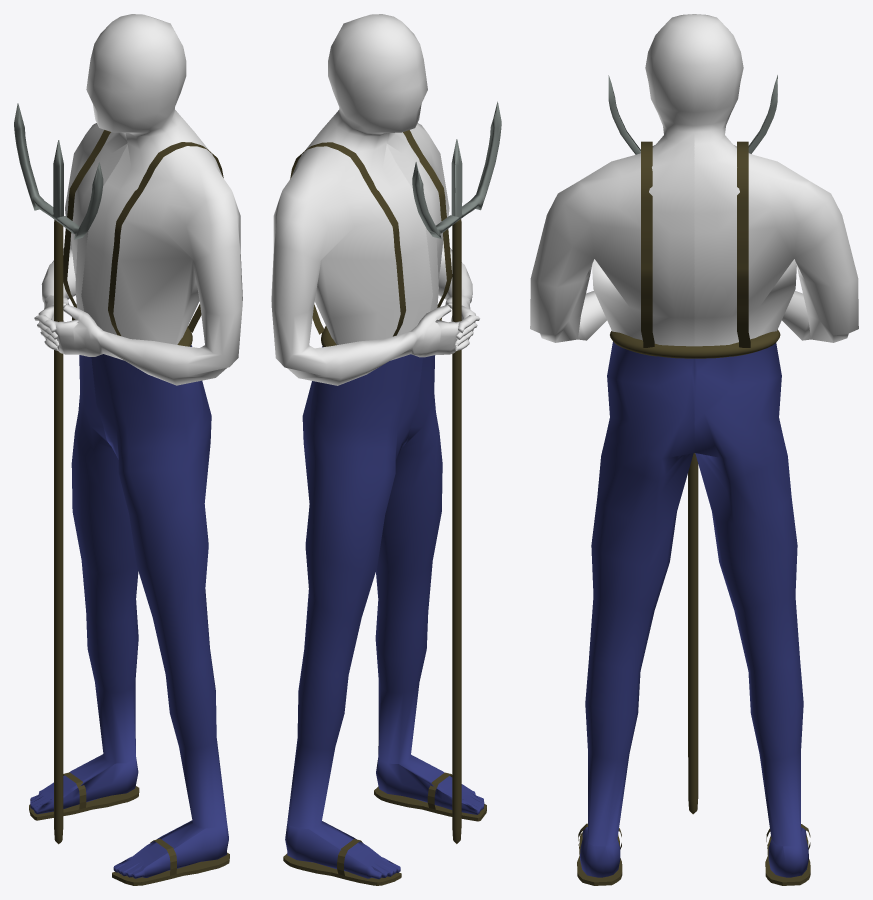
Rendered from Peasant.fbx.
3 views of the same model, side by side, from view 1: azimuth 30°, elevation 25°; view 2: azimuth 150°, elevation 25°; view 3: azimuth 270°, elevation 25° (orthographic). The views are drawn at different scales.
Parts seen in each view (by area): view 1: CB-Peasant, Pitchfork2, Pitchfork1, Plane, Sandle1, Sandle2, Plane.001; view 2: CB-Peasant, Pitchfork2, Pitchfork1, Plane.001, Sandle2, Sandle1, Plane; view 3: CB-Peasant, Pitchfork2, Plane.001, Plane, PeasantBelt, Pitchfork1, Sandle1, Sandle2.
Boxes of the visible parts, box(x1,y1,x2,y2) form: CB-Peasant: box(30, 14, 242, 878); Pitchfork2: box(54, 219, 63, 844); Pitchfork1: box(14, 103, 103, 239); Plane: box(108, 142, 223, 335); Sandle1: box(112, 838, 229, 885); Sandle2: box(29, 772, 139, 820); Plane.001: box(63, 130, 110, 307); CB-Peasant: box(271, 14, 484, 879); Pitchfork2: box(452, 219, 461, 843); Pitchfork1: box(412, 101, 501, 238); Plane.001: box(290, 142, 405, 336); Sandle2: box(283, 839, 401, 885); Sandle1: box(374, 772, 486, 821); Plane: box(403, 130, 452, 307); CB-Peasant: box(530, 14, 858, 877); Pitchfork2: box(688, 453, 698, 814); Plane.001: box(737, 141, 750, 347); Plane: box(641, 141, 654, 347); PeasantBelt: box(610, 329, 780, 358); Pitchfork1: box(608, 75, 777, 154); Sandle1: box(577, 823, 622, 885); Sandle2: box(765, 824, 810, 885).
Bounding box in the file's own units: 150 × 708 × 249.
